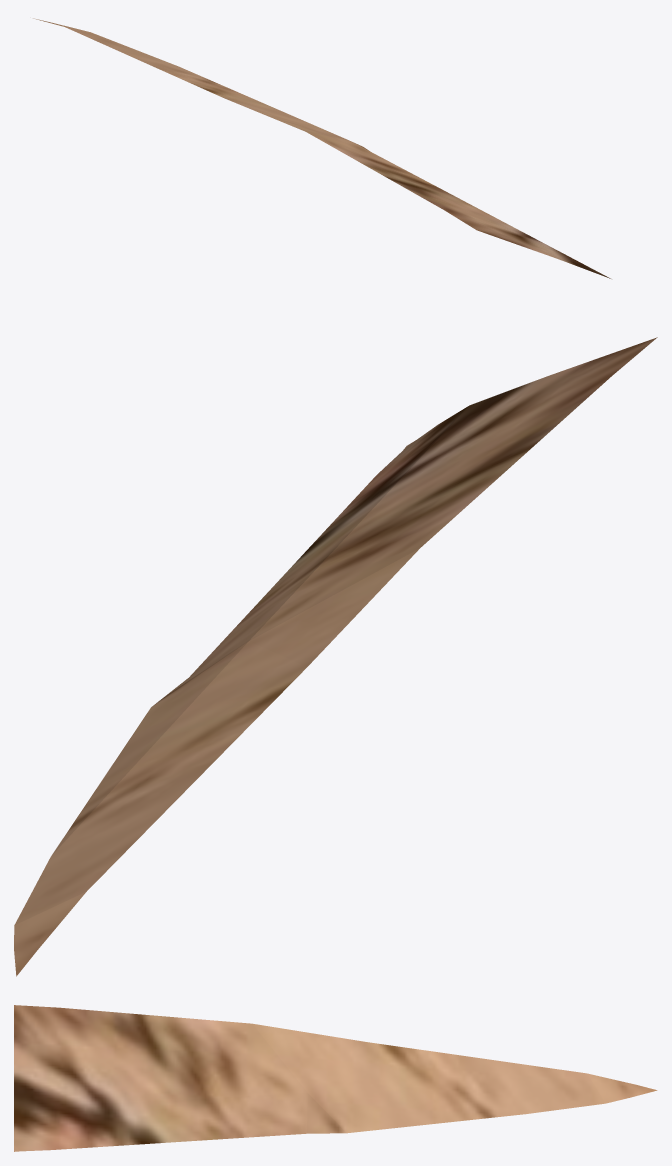
3 views of the same model, one above another, from view 1: azimuth 30°, elevation 25°; view 2: azimuth 150°, elevation 25°; view 3: azimuth 270°, elevation 25° (orthographic). The views are drawn at different scales.
Size of the model in its own units: 0.0872 by 0.0564 by 0.3856.
Materials: 1 (1 with a texture image).
